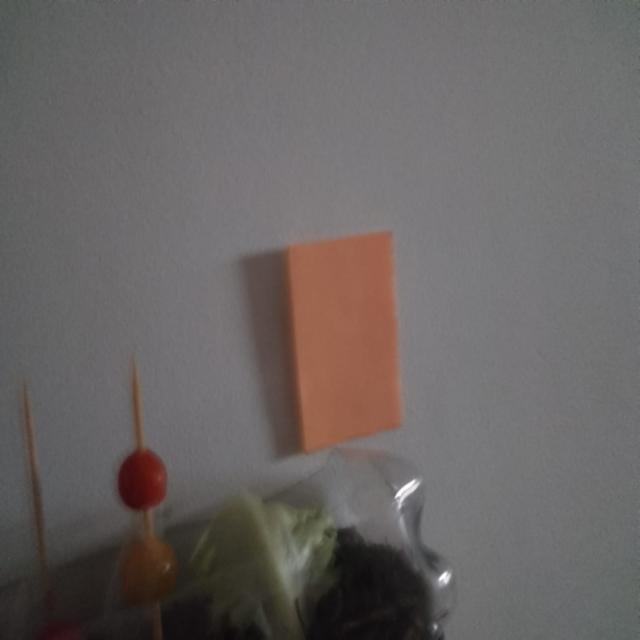card: (285, 233, 402, 452)
fruit_maturation: (122, 535, 177, 605)
fully_grown: (118, 449, 167, 510)
